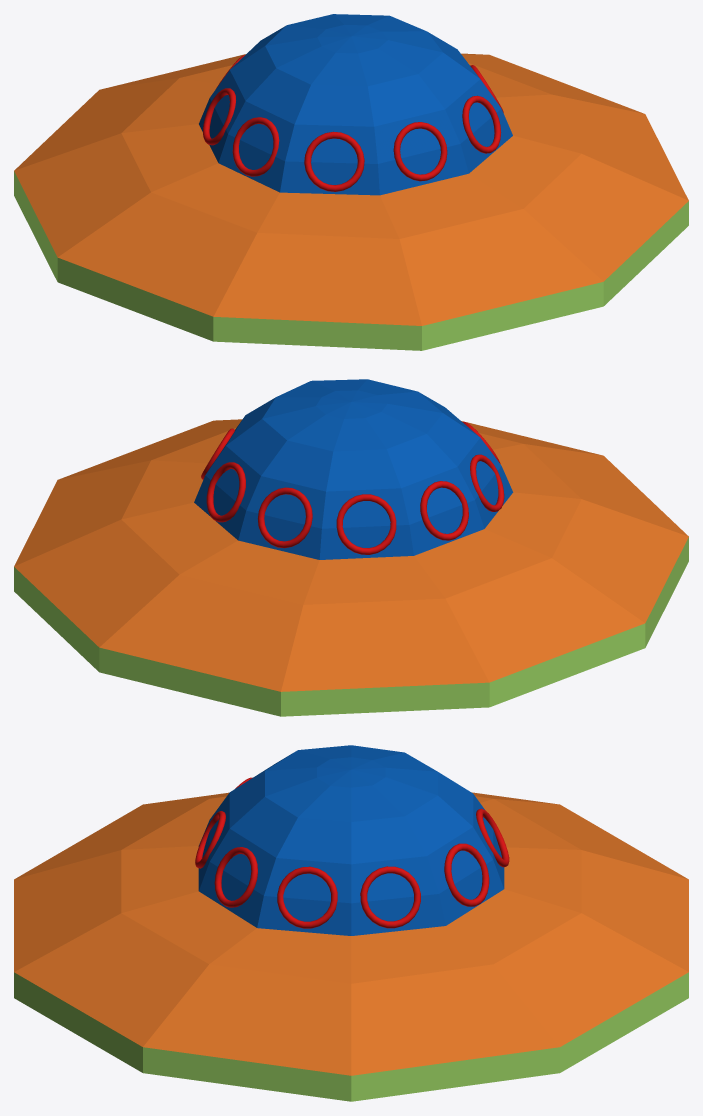
The model's file is UFO.FBX.
3 views of the same model, one above another, from view 1: azimuth 30°, elevation 25°; view 2: azimuth 150°, elevation 25°; view 3: azimuth 270°, elevation 25° (orthographic). The views are drawn at different scales.
Parts seen in each view (by area): view 1: UFO; view 2: UFO; view 3: UFO.
Part boxes in pixels (x1,y1,x2,y2): UFO: (14,14,688,350); UFO: (14,379,688,716); UFO: (14,745,688,1101).
Size of the model in its own units: 118 by 48.29 by 112.
